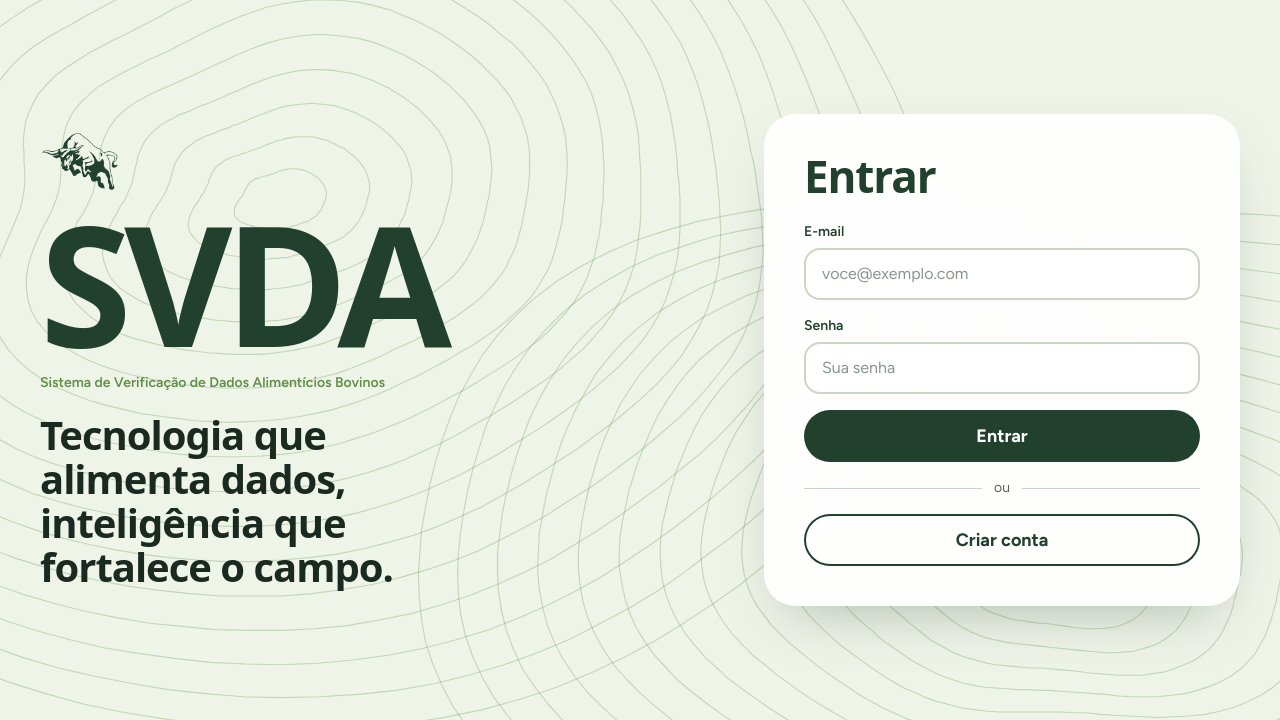
Scenario: login › shows the server error and stays on the page
This screenshot has width=1280, height=720.
Type "ana@example.com" into the field labelled "E-mail" at (1002, 274), box [804,248,1200,300]
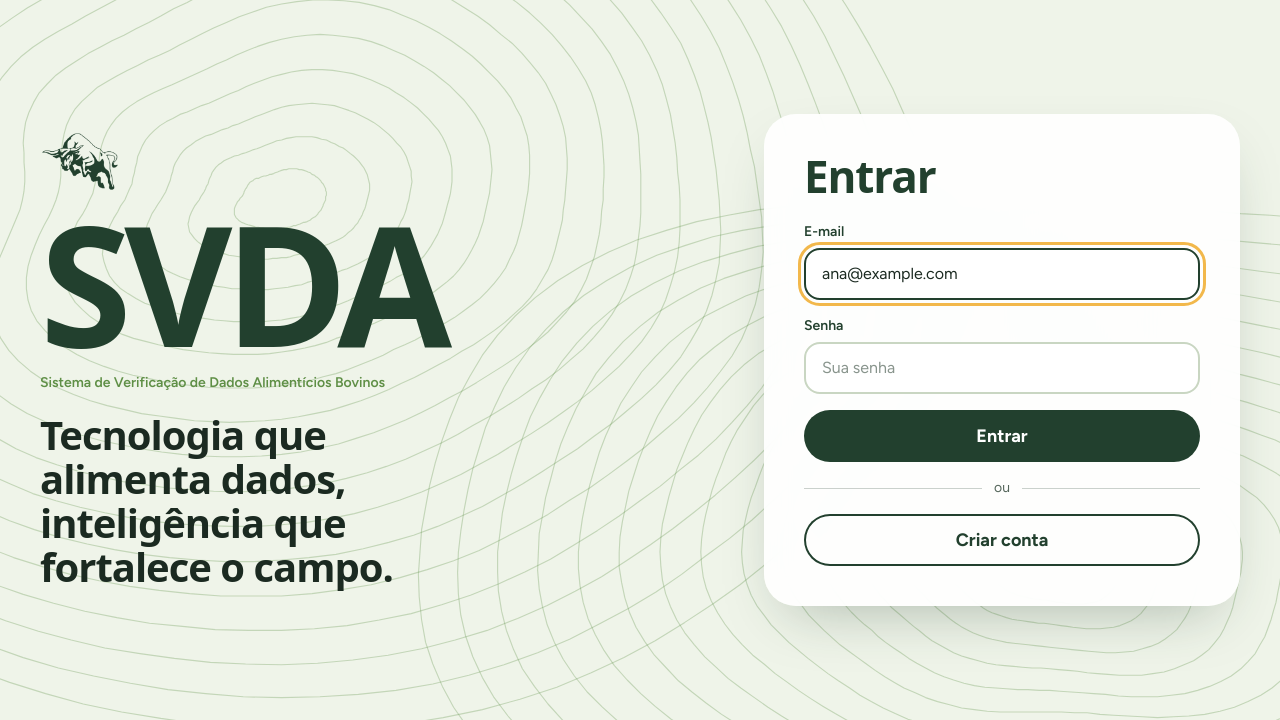
Type "errada" into the password field labelled "Senha" at (1002, 368), box [804,342,1200,394]
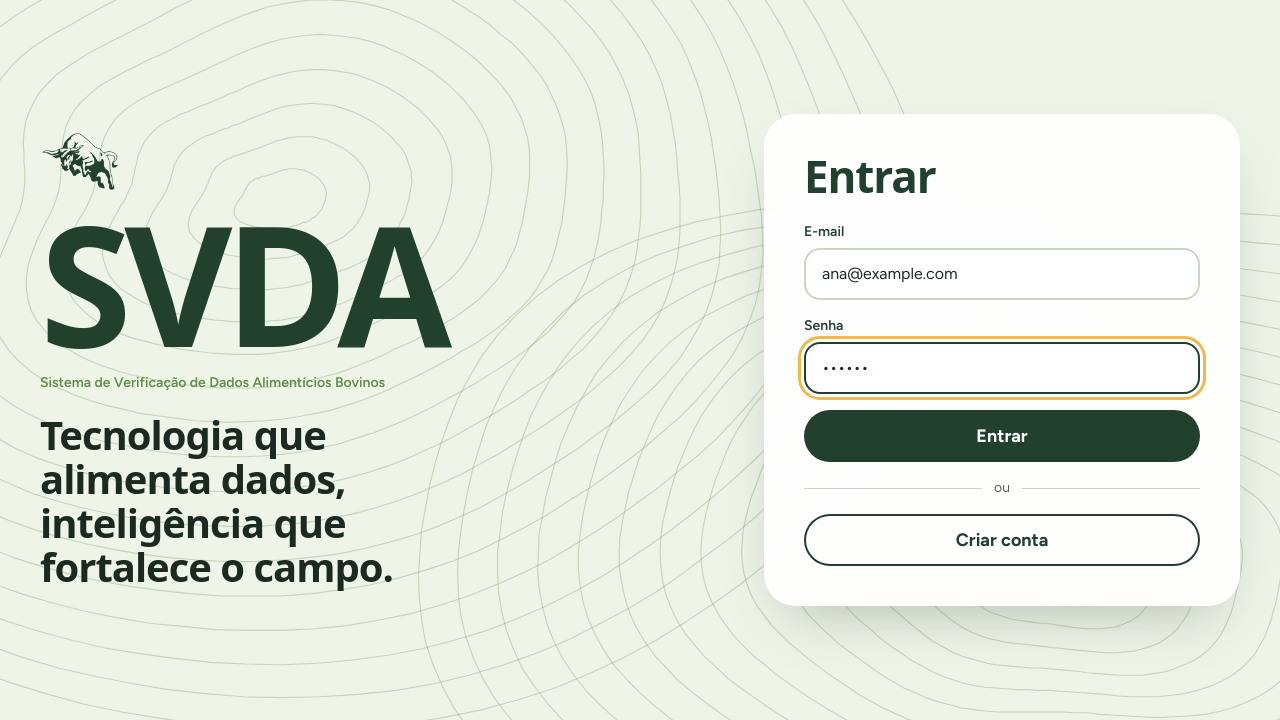
Click the button "Entrar" at (1002, 436), box [804,410,1200,462]
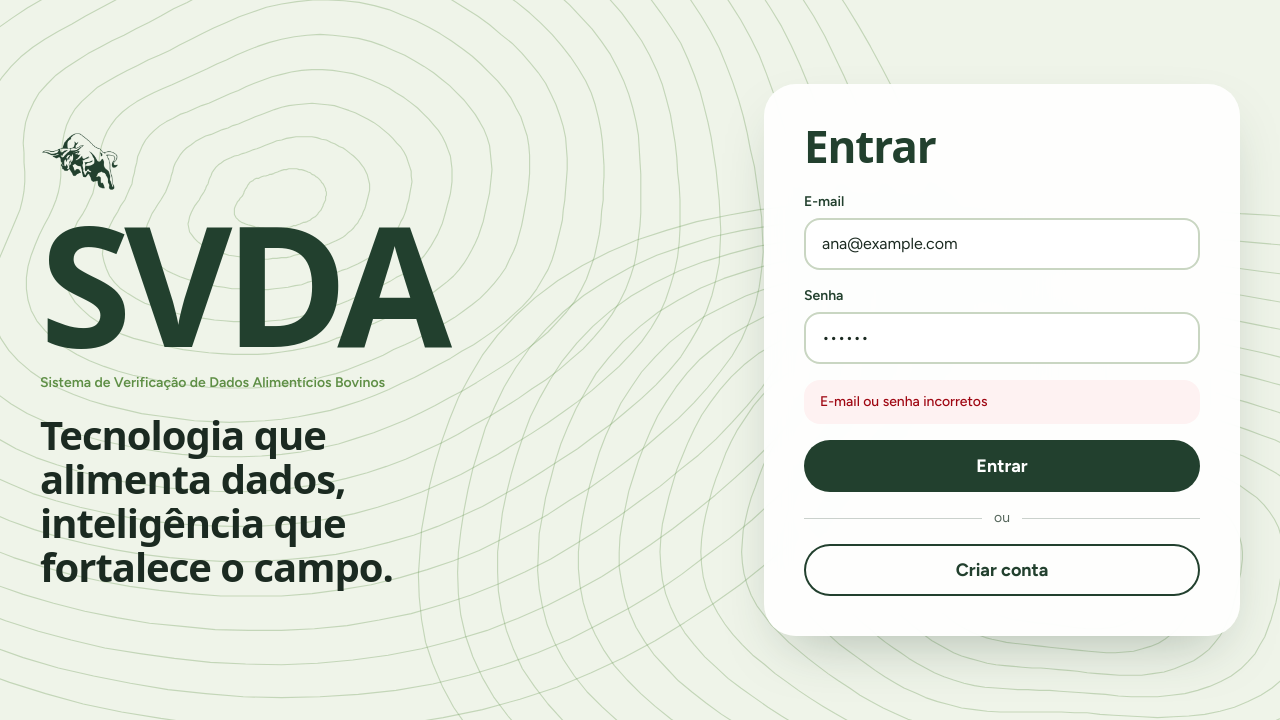
Expected: the heading "Entrar" is shown, [804,116,936,176]
Result: the message reads "E-mail ou senha incorretos" at [820,393,988,410]
